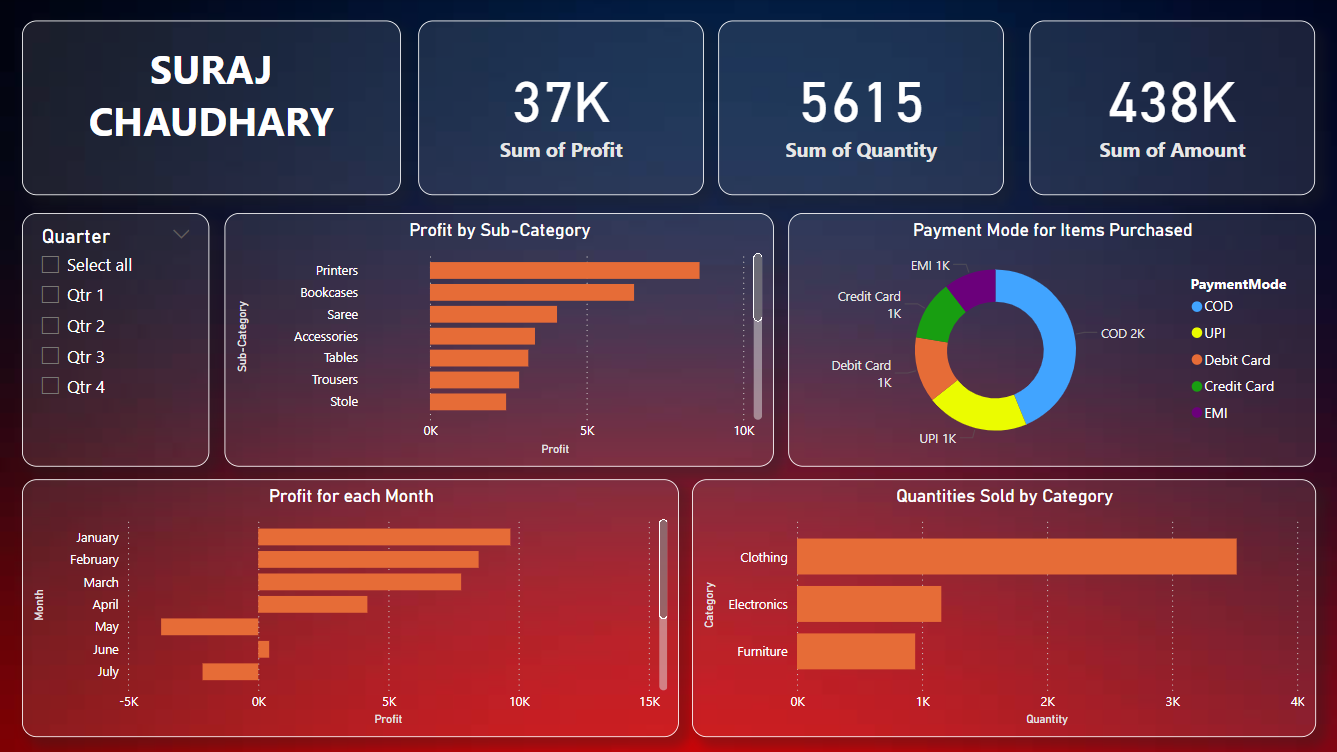

What the dashboard file says about the page in this screenshot:
{"tool":"powerbi","page":{"name":"Page 1","canvas":[1280,720],"ordinal":0},"visuals":[{"type":"slicer","fields":{"Values":["Order details - Sheet1.Order Date.Variation.Date Hierarchy.Quarter"]},"box":[23.3,204.5,178.4,241.5],"z":0},{"type":"card","fields":{"Values":["Sum(Order details - Sheet1.Profit)"]},"box":[400.7,22,271.7,166],"z":1},{"type":"card","fields":{"Values":["Sum(Order details - Sheet1.Quantity)"]},"box":[687.5,22,271.7,166],"z":2},{"type":"card","fields":{"Values":["Sum(Order details - Sheet1.Amount)"]},"box":[983.9,22,271.7,166],"z":3},{"type":"clusteredBarChart","title":"Profit by Sub-Category","fields":{"Y":["Sum(Order details - Sheet1.Profit)"],"Category":["Order details - Sheet1.Sub-Category"]},"box":[216.8,204.5,522.8,241.5],"z":4},{"type":"donutChart","title":"Payment Mode for Items Purchased","fields":{"Category":["Order details - Sheet1.PaymentMode"],"Y":["Sum(Order details - Sheet1.Quantity)"]},"box":[753.3,204.5,502.2,241.5],"z":5},{"type":"clusteredBarChart","title":"Profit for each Month","fields":{"Y":["Sum(Order details - Sheet1.Profit)"],"Category":["Order details - Sheet1.Order Date.Variation.Date Hierarchy.Month"]},"box":[23.3,458.3,625.7,245.6],"z":6},{"type":"clusteredBarChart","title":"Quantities Sold by Category","fields":{"Y":["Sum(Order details - Sheet1.Quantity)"],"Category":["Order details - Sheet1.Category"]},"box":[661.4,458.3,594.2,245.6],"z":7},{"type":"textbox","box":[23.3,22,360.9,166],"z":8}]}

Visuals, with their boxes in screenshot pixels (x1, y1, x2, y2), scaled from the page's 1280x720 canvas onto the 1337x752 screenshot:
slicer - Order details - Sheet1.Order Date.Variation.Date Hierarchy.Quarter: 24, 214, 211, 466
card - Sum(Order details - Sheet1.Profit): 419, 23, 702, 196
card - Sum(Order details - Sheet1.Quantity): 718, 23, 1002, 196
card - Sum(Order details - Sheet1.Amount): 1028, 23, 1312, 196
"Profit by Sub-Category" clusteredBarChart: 226, 214, 773, 466
"Payment Mode for Items Purchased" donutChart: 787, 214, 1311, 466
"Profit for each Month" clusteredBarChart: 24, 479, 678, 735
"Quantities Sold by Category" clusteredBarChart: 691, 479, 1312, 735
textbox: 24, 23, 401, 196
